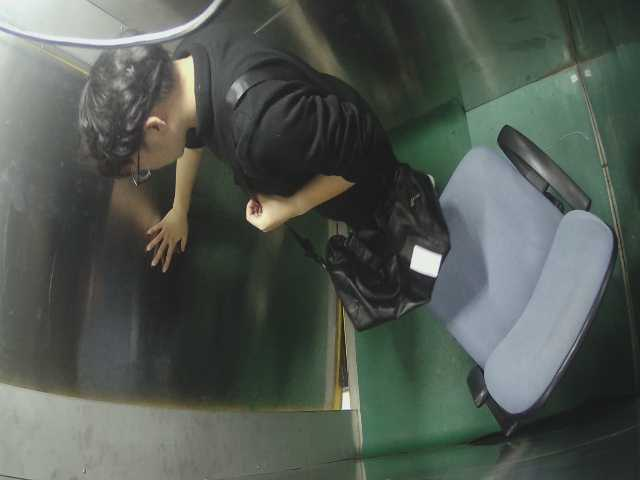bag: (316, 163, 461, 315)
chair: (427, 130, 619, 445)
person: (65, 27, 419, 295)
